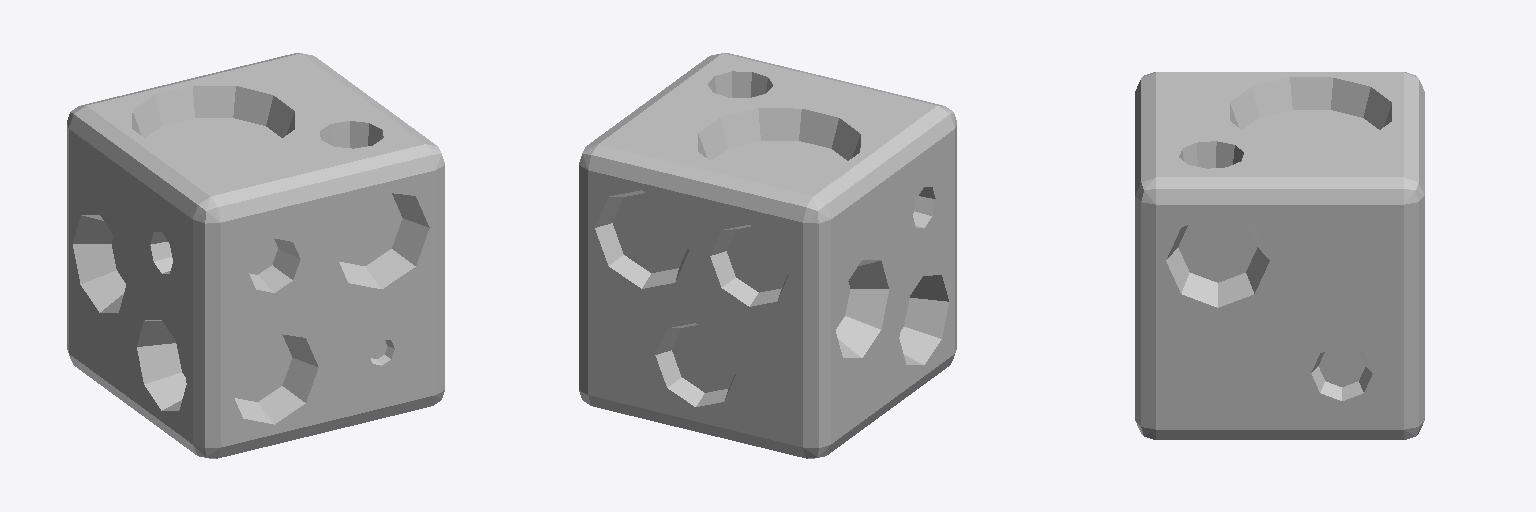
File: Block_Cheese.obj
3 renders of one model, left to right at view 1: azimuth 30°, elevation 25°; view 2: azimuth 150°, elevation 25°; view 3: azimuth 270°, elevation 25°, orthographic.
Parts seen in each view (by area): view 1: Block_Cheese_Cube.013; view 2: Block_Cheese_Cube.013; view 3: Block_Cheese_Cube.013.
Boxes of the visible parts, box(x1,y1,x2,y2) form: Block_Cheese_Cube.013: box(67, 53, 444, 458); Block_Cheese_Cube.013: box(579, 53, 956, 458); Block_Cheese_Cube.013: box(1135, 72, 1424, 439).
Bounding box in the file's own units: 1.87 × 1.87 × 1.87.